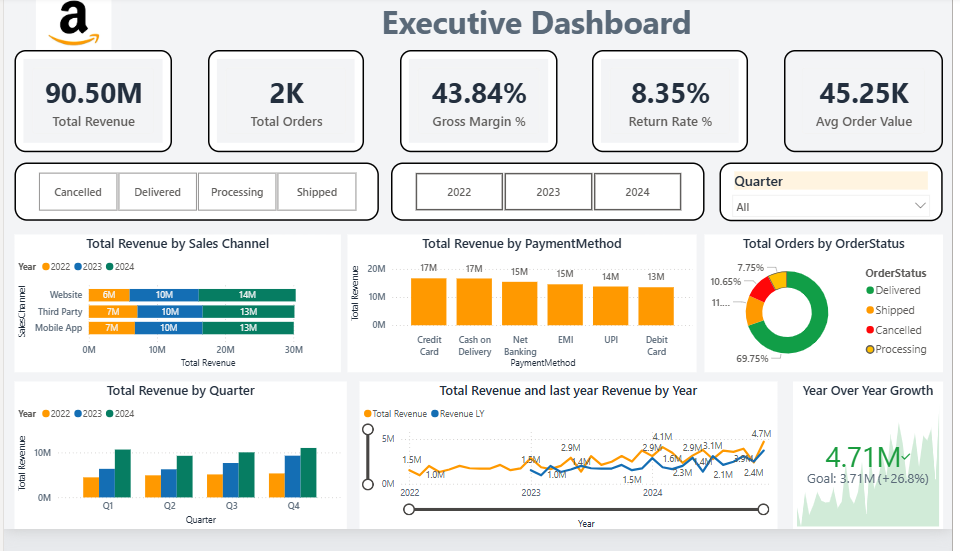

Layout of this report page (visuals, bound fields, positions):
{"tool":"powerbi","page":{"name":"Executive dashboard","canvas":[1280,720],"ordinal":0},"visuals":[{"type":"lineChart","title":"Total Revenue and last year Revenue by Year","fields":{"Y":["measure table.Total Revenue","measure table.Revenue LY"],"Category":["DateTable.Date.Variation.Date Hierarchy.Year","DateTable.Date.Variation.Date Hierarchy.Month"]},"box":[479.3,519.8,563.5,200.8],"z":0},{"type":"clusteredColumnChart","title":"Total Revenue by Quarter","fields":{"Category":["DateTable.Quarter"],"Y":["measure table.Total Revenue"],"Series":["DateTable.Year"]},"box":[14.6,519.8,448.5,199.2],"z":1000},{"type":"donutChart","fields":{"Category":["Orders.OrderStatus"],"Y":["measure table.Total Orders"]},"box":[945.6,322.2,322.2,186.2],"z":2000},{"type":"barChart","title":"Total Revenue by Sales Channel ","fields":{"Category":["Orders.SalesChannel"],"Y":["measure table.Total Revenue"],"Series":["DateTable.Year"]},"box":[14.6,322.2,440.4,186.2],"z":3000},{"type":"clusteredColumnChart","fields":{"Category":["Orders.PaymentMethod"],"Y":["measure table.Total Revenue"]},"box":[463.1,322.2,471.2,186.2],"z":4000},{"type":"cardVisual","fields":{"Data":["measure table.Total Revenue"]},"box":[14.2,72.9,212.7,137.7],"z":5000},{"type":"cardVisual","fields":{"Data":["measure table.Gross Margin %"]},"box":[533.7,72.9,212.7,137.7],"z":6000},{"type":"cardVisual","fields":{"Data":["measure table.Return Rate %"]},"box":[794.4,72.9,210.6,137.7],"z":7000},{"type":"cardVisual","fields":{"Data":["measure table.Avg Order Value"]},"box":[1053.2,72.9,214.7,137.7],"z":8000},{"type":"cardVisual","fields":{"Data":["measure table.Total Orders"]},"box":[274.9,72.9,210.6,137.7],"z":9000},{"type":"kpi","title":"Year Over Year Growth","fields":{"TrendLine":["DateTable.YearMonth"],"Goal":["measure table.Revenue LY"],"Indicator":["measure table.Total Revenue"]},"box":[1065.5,519.8,202.4,200.8],"z":10000},{"type":"image","box":[30.4,0,127.6,72.9],"z":11000},{"type":"slicer","fields":{"Values":["DateTable.Year"]},"box":[522.5,224.8,423.3,79],"z":12000},{"type":"slicer","fields":{"Values":["DateTable.Quarter"]},"box":[966.7,225.1,301.2,79.3],"z":13000},{"type":"slicer","fields":{"Values":["Orders.OrderStatus"]},"box":[14.2,224.8,492.2,79],"z":14000},{"type":"textbox","box":[158,0,1122,72.9],"z":15000}]}

Visuals, with their boxes in screenshot pixels (x1, y1, x2, y2), scaled from the page's 1280x720 canvas onto the 960x551 screenshot:
"Total Revenue and last year Revenue by Year" lineChart: [359, 398, 782, 550]
"Total Revenue by Quarter" clusteredColumnChart: [11, 398, 347, 550]
donutChart - Orders.OrderStatus x measure table.Total Orders: [709, 247, 951, 389]
"Total Revenue by Sales Channel " barChart: [11, 247, 341, 389]
clusteredColumnChart - Orders.PaymentMethod x measure table.Total Revenue: [347, 247, 701, 389]
cardVisual - measure table.Total Revenue: [11, 56, 170, 161]
cardVisual - measure table.Gross Margin %: [400, 56, 560, 161]
cardVisual - measure table.Return Rate %: [596, 56, 754, 161]
cardVisual - measure table.Avg Order Value: [790, 56, 951, 161]
cardVisual - measure table.Total Orders: [206, 56, 364, 161]
"Year Over Year Growth" kpi: [799, 398, 951, 550]
image: [23, 0, 118, 56]
slicer - DateTable.Year: [392, 172, 709, 232]
slicer - DateTable.Quarter: [725, 172, 951, 233]
slicer - Orders.OrderStatus: [11, 172, 380, 232]
textbox: [118, 0, 959, 56]
